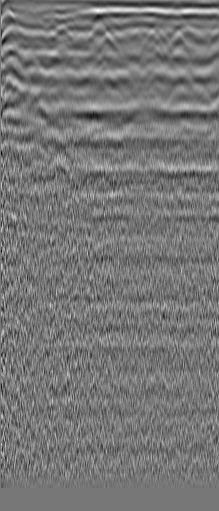오수: (28, 16, 48, 36)
우수: (167, 28, 187, 48)
